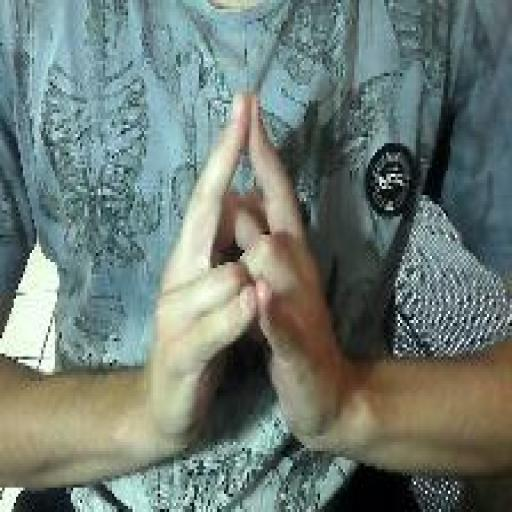Tori -bird-: (141, 80, 346, 462)
